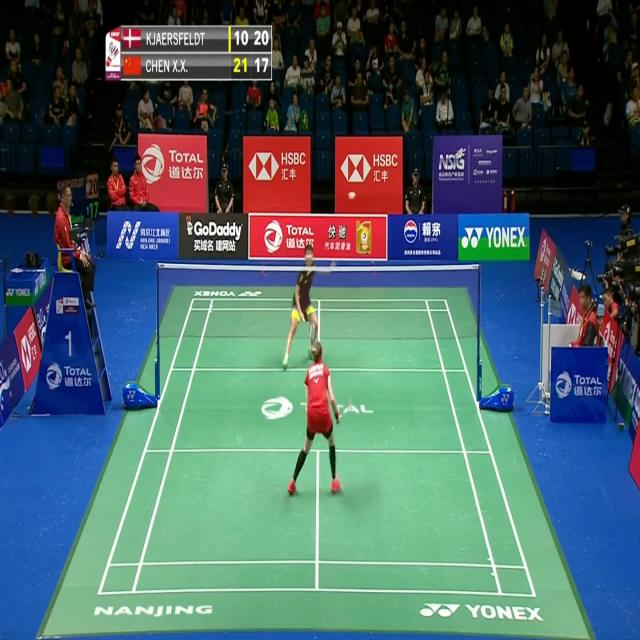Player1: (286, 337, 350, 510)
Player2: (282, 237, 340, 367)
